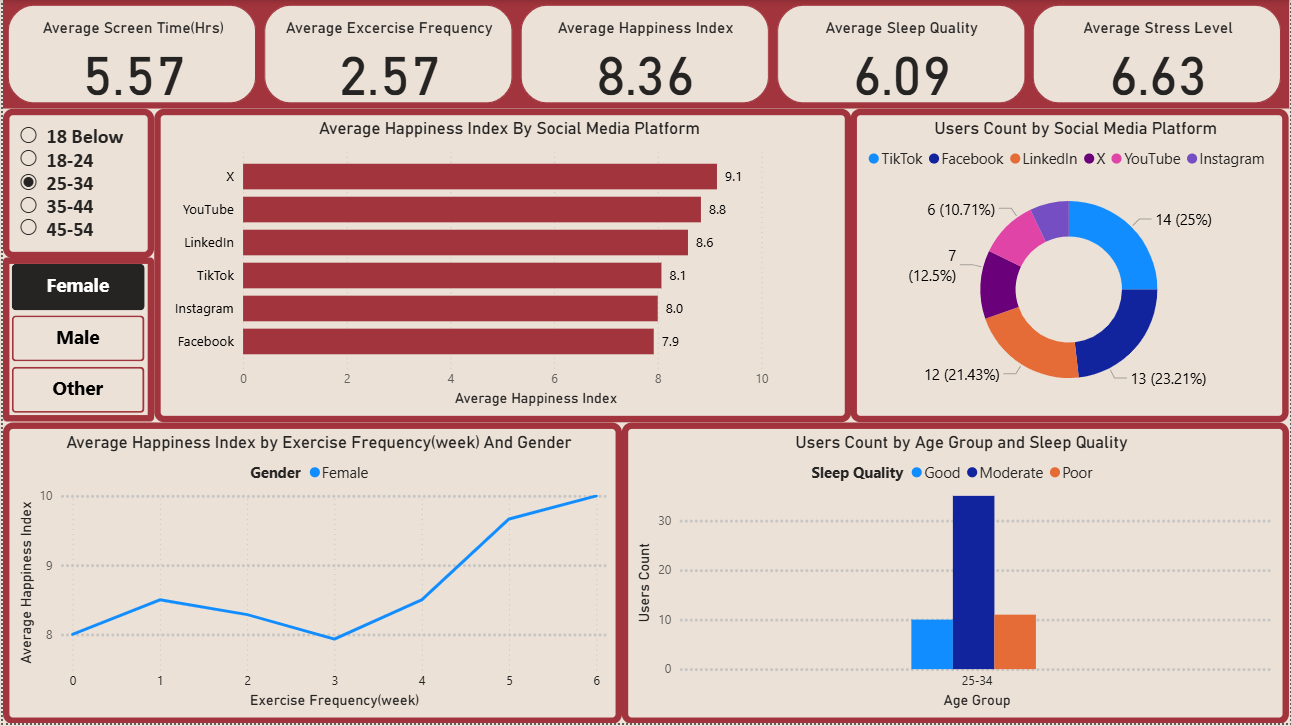

This screenshot's page, from the dashboard's own definition file:
{"tool":"powerbi","page":{"name":"Page 1","canvas":[1280,720],"ordinal":0},"visuals":[{"type":"clusteredColumnChart","title":"Users Count by Age Group and Sleep Quality","fields":{"Category":["Mental_Health_and_Social_Media_.Age Group"],"Y":["Mental_Health_and_Social_Media_.Users_count"],"Series":["Mental_Health_and_Social_Media_.Sleep Quality"]},"box":[616.1,419.8,663.7,300.1],"z":0},{"type":"cardVisual","fields":{"Data":["Mental_Health_and_Social_Media_.Avg_Daily_screen_time","Mental_Health_and_Social_Media_.Avg_excercise_frequency","Mental_Health_and_Social_Media_.Avg_happiness_index","Mental_Health_and_Social_Media_.Avg_Sleep_quality","Mental_Health_and_Social_Media_.Avg_stress_level"]},"box":[0,0,1280,108.2],"z":1000},{"type":"lineChart","title":"Average Happiness Index by Exercise Frequency(week) And Gender","fields":{"Category":["Mental_Health_and_Social_Media_.Exercise_Frequency(week)"],"Y":["Mental_Health_and_Social_Media_.Avg_happiness_index"],"Series":["Mental_Health_and_Social_Media_.Gender"]},"box":[0,419.8,616.1,300.1],"z":2000},{"type":"donutChart","title":"Users Count by Social Media Platform","fields":{"Category":["Mental_Health_and_Social_Media_.Social_Media_Platform.1"],"Y":["Mental_Health_and_Social_Media_.Users_count"]},"box":[844,108.2,435.7,311.6],"z":3000},{"type":"clusteredBarChart","title":"Average Happiness Index By Social Media Platform","fields":{"Y":["Mental_Health_and_Social_Media_.Avg_happiness_index"],"Category":["Mental_Health_and_Social_Media_.Social_Media_Platform.1"]},"box":[150,108.2,694,311.6],"z":4000},{"type":"listSlicer","fields":{"Values":["Mental_Health_and_Social_Media_.Age Group"]},"box":[0,108.2,150,148.6],"z":5000},{"type":"advancedSlicerVisual","fields":{"Values":["Mental_Health_and_Social_Media_.Gender"]},"box":[0,256.8,150,163],"z":6000}]}

Visuals, with their boxes in screenshot pixels (x1, y1, x2, y2), scaled from the page's 1280x720 canvas onto the 1291x726 screenshot:
"Users Count by Age Group and Sleep Quality" clusteredColumnChart: 621 423 1290 725
cardVisual - Mental_Health_and_Social_Media_.Avg_Daily_screen_time x Mental_Health_and_Social_Media_.Avg_excercise_frequency: 0 0 1290 109
"Average Happiness Index by Exercise Frequency(week) And Gender" lineChart: 0 423 621 725
"Users Count by Social Media Platform" donutChart: 851 109 1290 423
"Average Happiness Index By Social Media Platform" clusteredBarChart: 151 109 851 423
listSlicer - Mental_Health_and_Social_Media_.Age Group: 0 109 151 259
advancedSlicerVisual - Mental_Health_and_Social_Media_.Gender: 0 259 151 423
